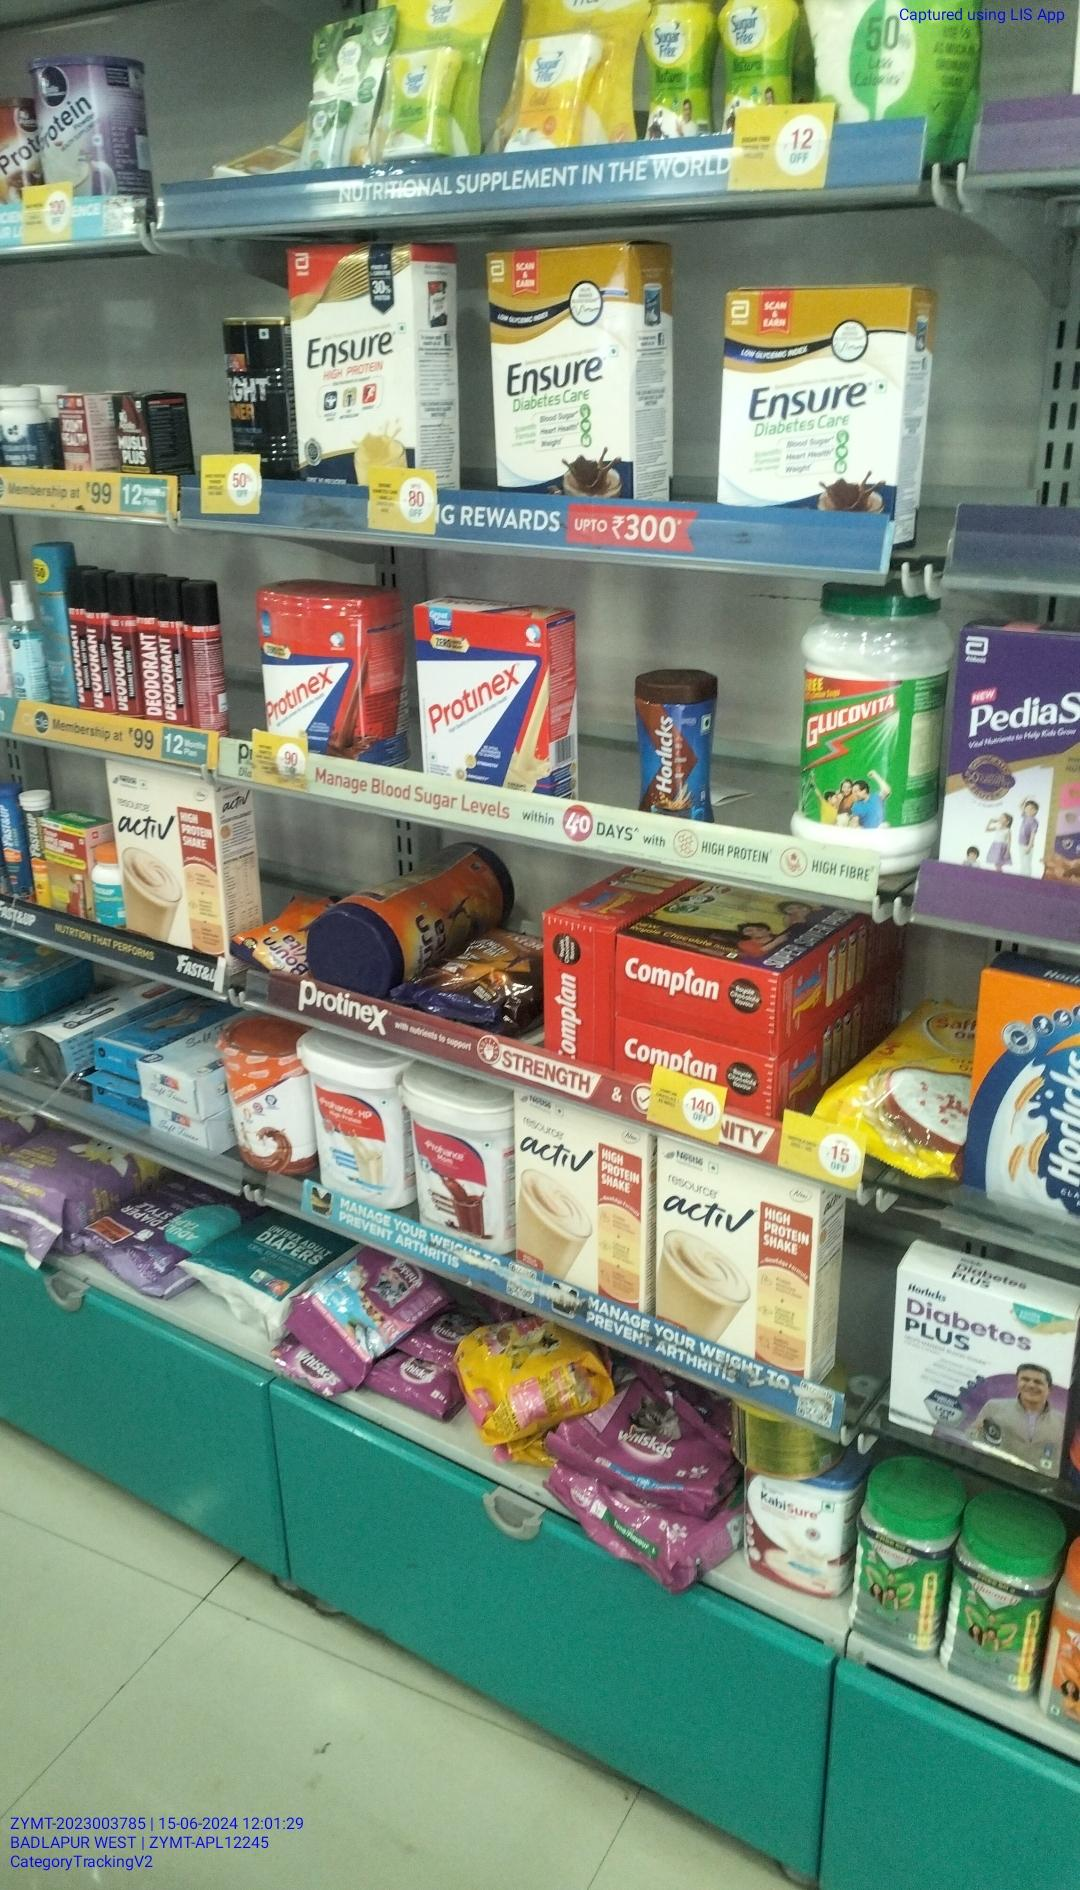ENSURE_VANILLA_400_G_PACK: (291, 243, 418, 462)
HORLICK_CHOCOLATE_200_G_JAR: (633, 670, 717, 818)
PROTINEX_CHOCOLATE_400_G_JAR: (257, 588, 369, 732)
